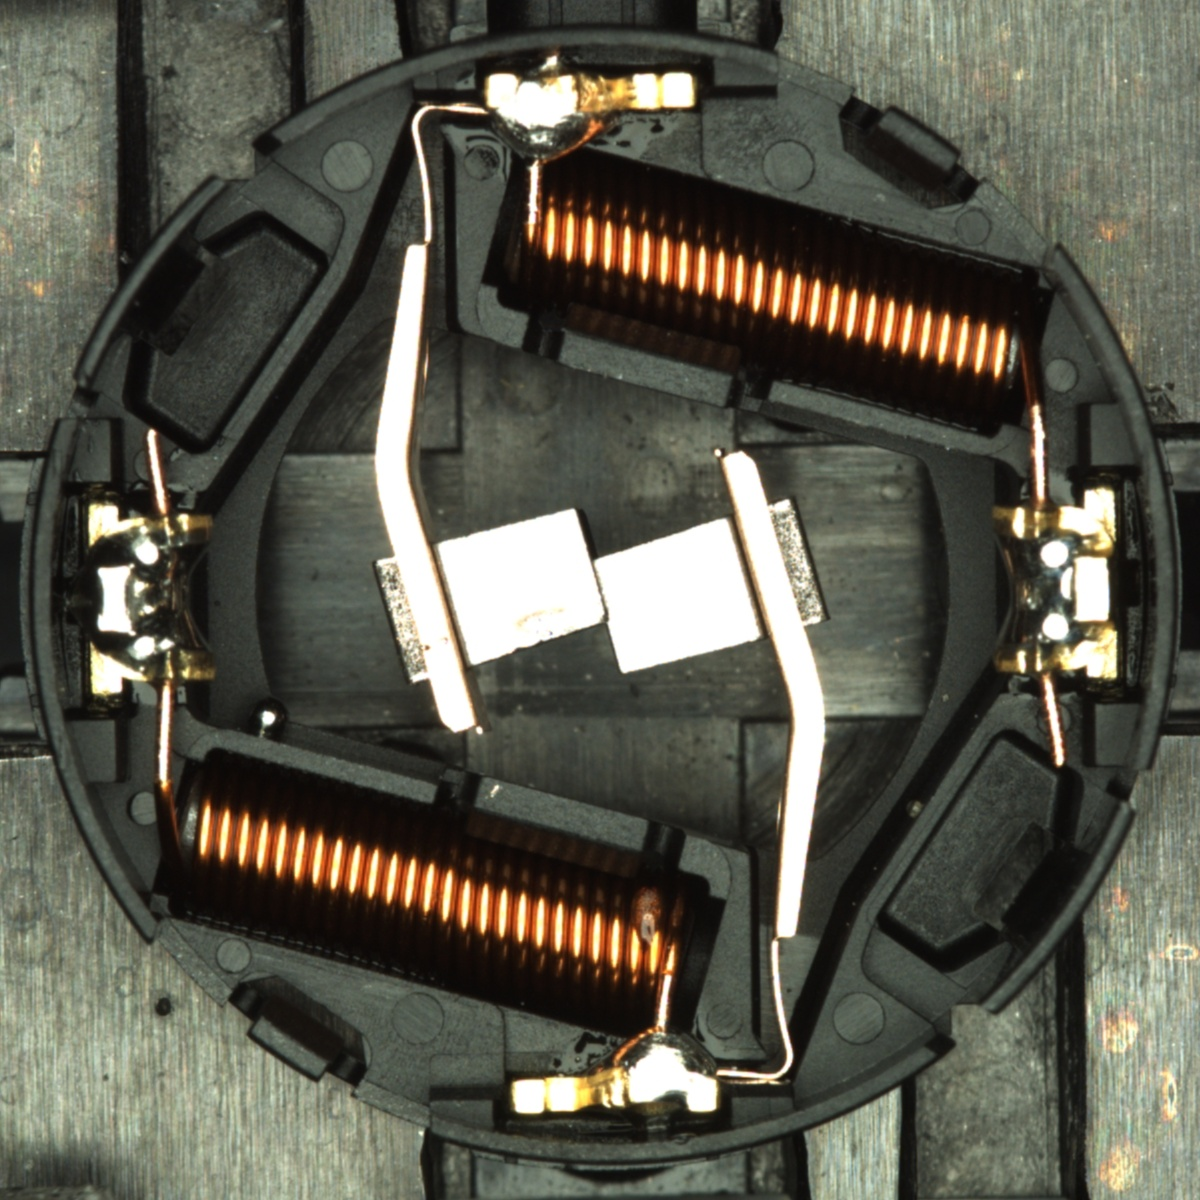1: (712, 927, 942, 1152), (254, 30, 482, 254)
2: (712, 30, 942, 254), (254, 927, 482, 1152)
3: (942, 702, 1170, 927), (24, 254, 254, 478)
4: (712, 702, 942, 927), (254, 254, 482, 478)
5: (482, 142, 712, 366), (482, 815, 712, 1040)
6: (254, 702, 482, 927), (712, 254, 942, 478)
7: (24, 702, 254, 927), (942, 254, 1170, 478)
cacbon: (392, 497, 803, 684)
chau_dien: (81, 496, 221, 698), (985, 487, 1125, 686)
hat_chi: (249, 698, 289, 738)
tay_choi: (484, 68, 702, 168), (509, 1021, 722, 1116)
thanh_de: (954, 787, 1142, 1031), (60, 163, 246, 404)
